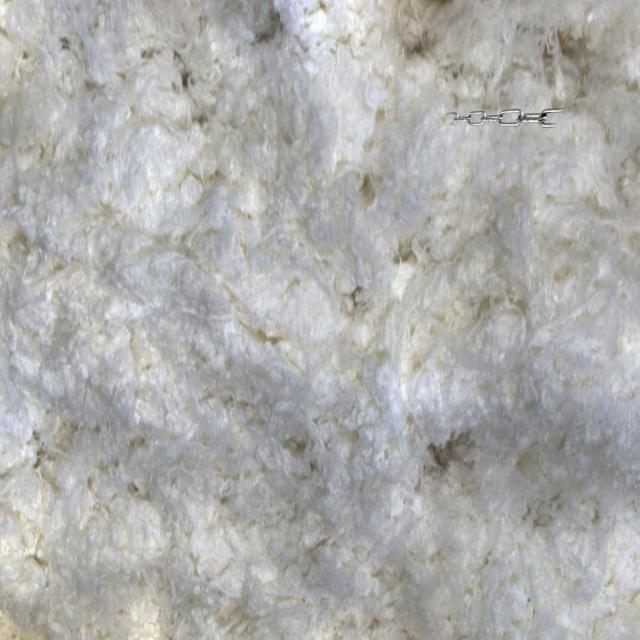dust: (436, 70, 575, 190)
